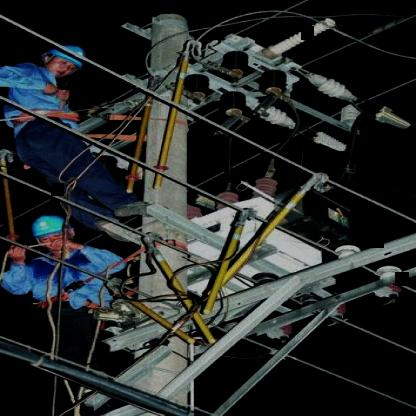helmet: (35, 42, 90, 80), (28, 211, 66, 249)
